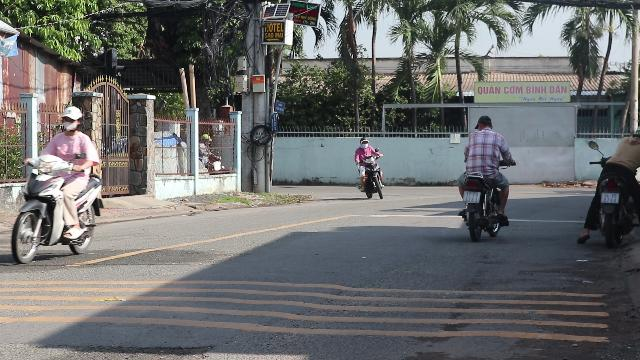helmet: (58, 105, 82, 133)
licenseplate: (462, 191, 480, 203), (601, 193, 619, 203)
motorcyclist: (9, 104, 107, 264), (455, 113, 513, 239), (580, 127, 640, 246)
nohelmet: (475, 114, 493, 130)
